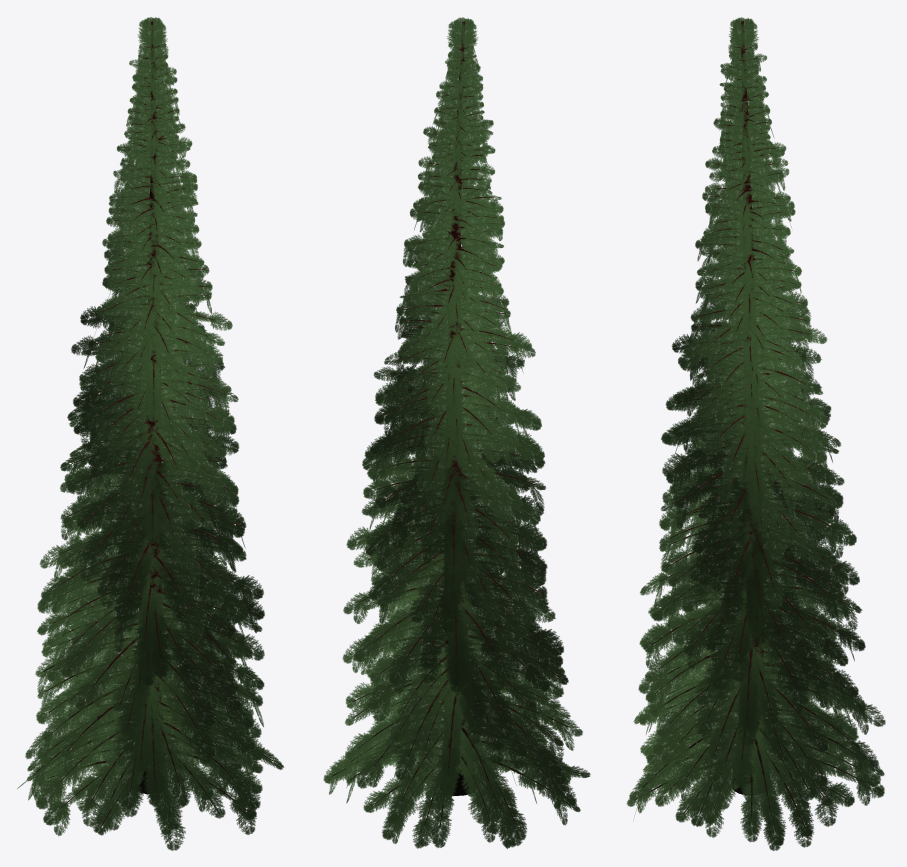
File: spruce_conifer_v03.glb
3 views of the same model, side by side, from view 1: azimuth 30°, elevation 25°; view 2: azimuth 150°, elevation 25°; view 3: azimuth 270°, elevation 25° (orthographic).
Visible parts, largest first — view 1: spruce_conifer_v03; view 2: spruce_conifer_v03; view 3: spruce_conifer_v03.
Part boxes in pixels (x1,y1,x2,y2): spruce_conifer_v03: (17, 17, 284, 850); spruce_conifer_v03: (323, 17, 590, 848); spruce_conifer_v03: (626, 17, 885, 850).
Size of the model in its own units: 10.55 by 33.14 by 10.21.
2 materials, 2 textured.
